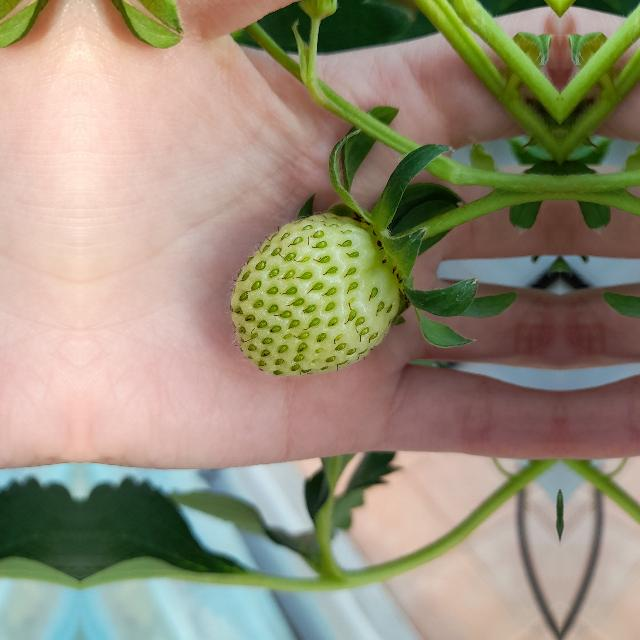Health_25: (230, 212, 400, 376)
